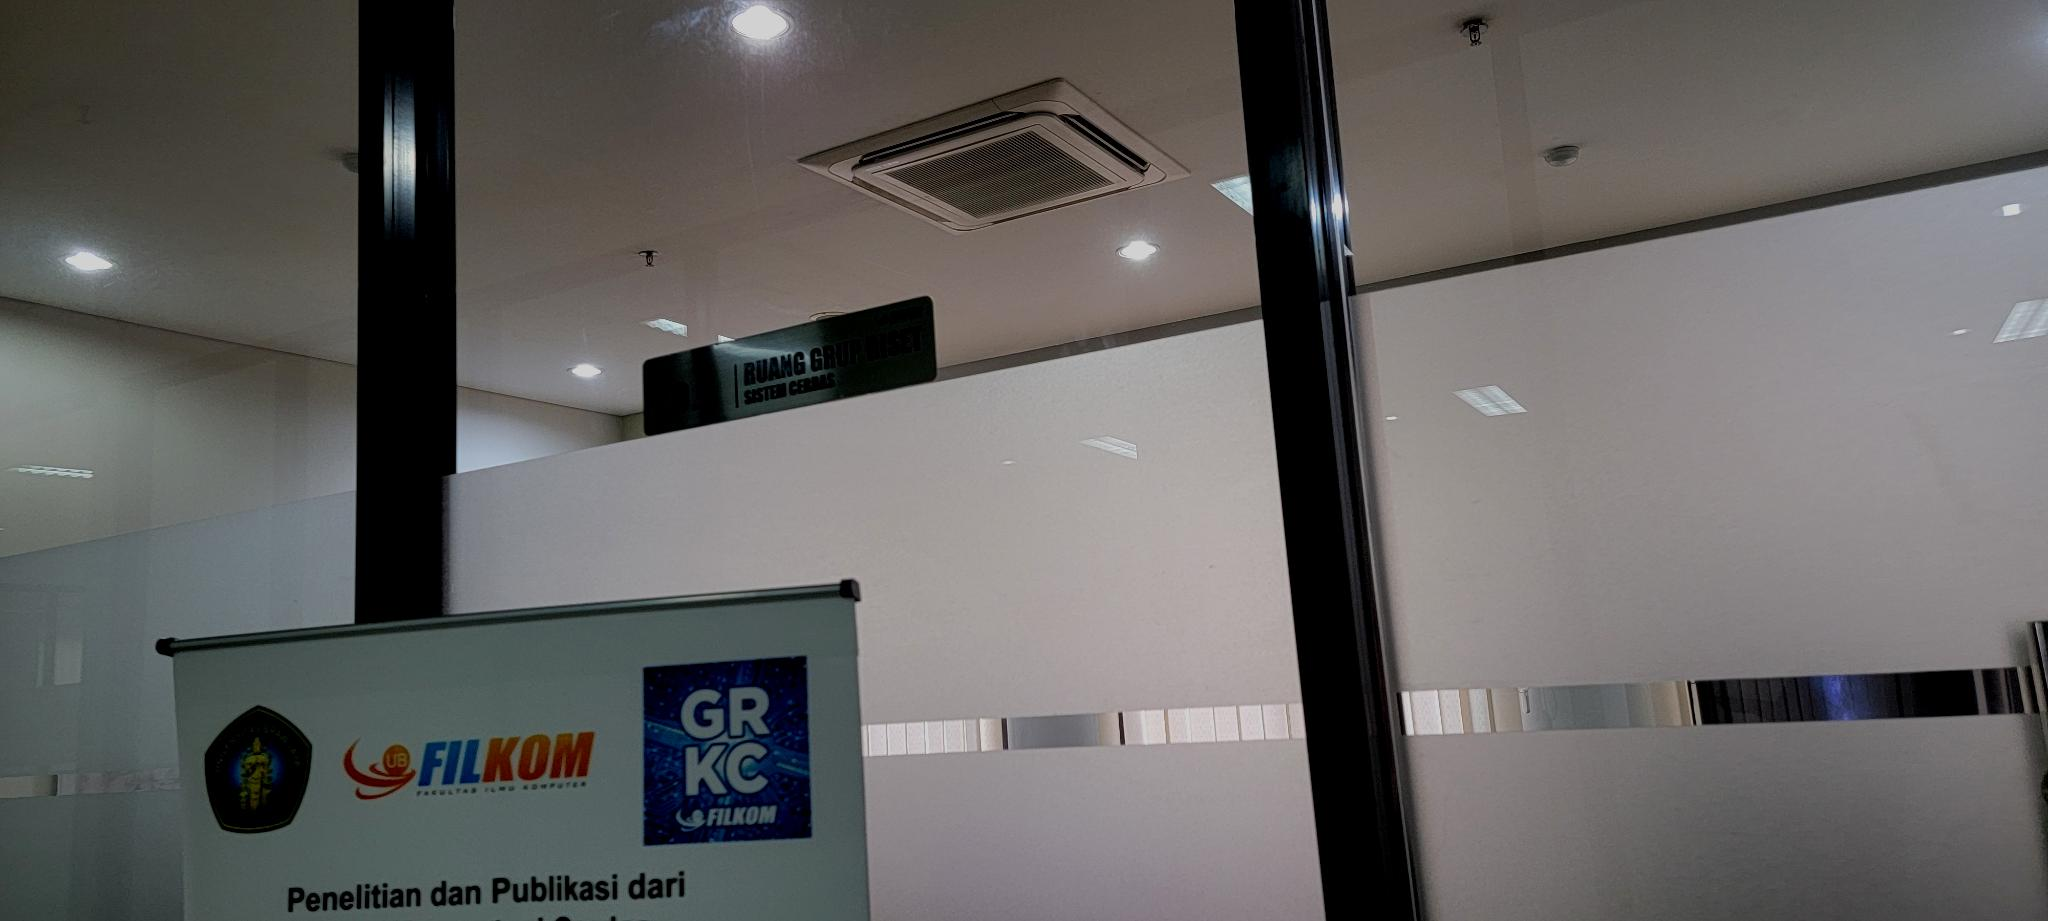plate: (641, 291, 939, 439)
